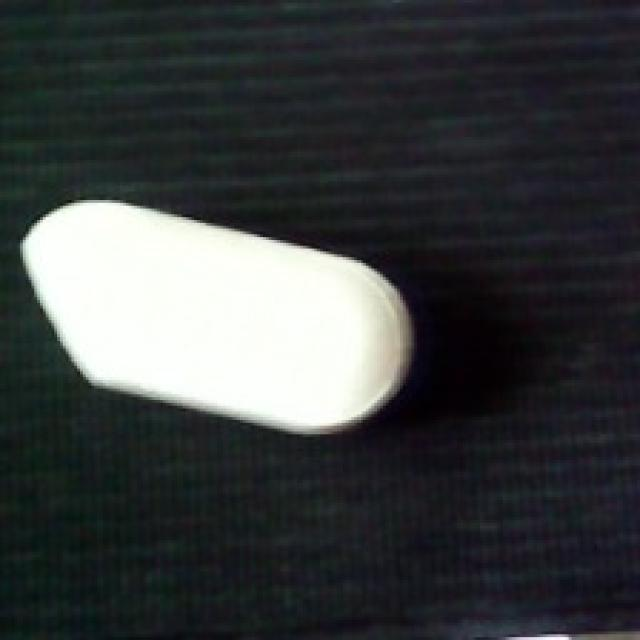defected: (12, 197, 414, 437)
